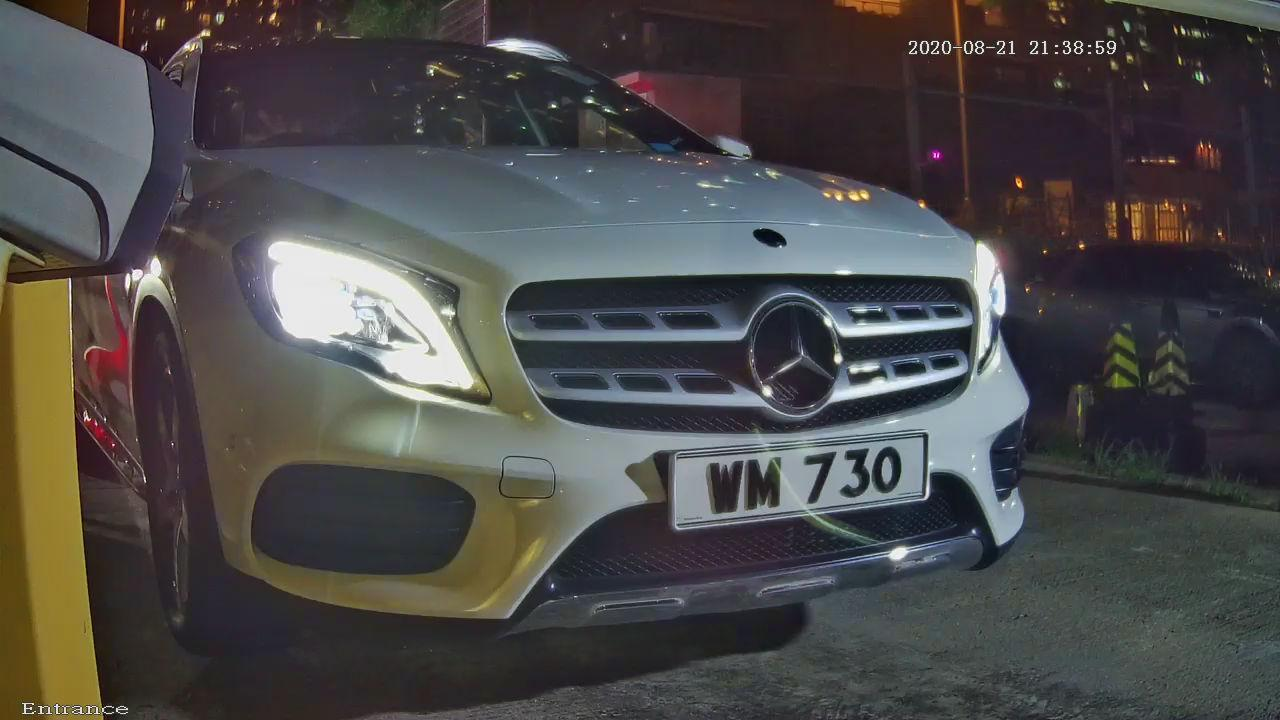License Plate: (646, 418, 955, 534)
